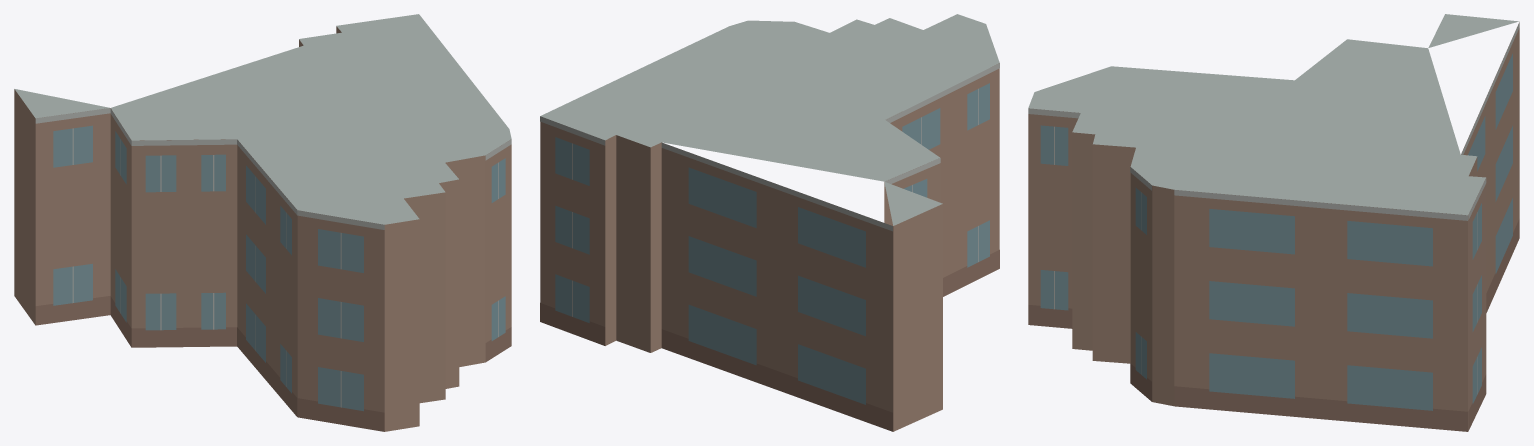
The model's file is survey-upis-32494432.glb.
3 views of the same model, side by side, from view 1: azimuth 30°, elevation 25°; view 2: azimuth 150°, elevation 25°; view 3: azimuth 270°, elevation 25° (orthographic). The views are drawn at different scales.
Visible parts, largest first — view 1: survey-upis-32494432.tmp; view 2: survey-upis-32494432.tmp; view 3: survey-upis-32494432.tmp.
Part boxes in pixels (box(x1,y1,x2,y2)): survey-upis-32494432.tmp: box(14, 14, 511, 431); survey-upis-32494432.tmp: box(540, 14, 999, 431); survey-upis-32494432.tmp: box(1028, 14, 1519, 431).
Size of the model in its own units: 18.65 by 9.35 by 19.23.
